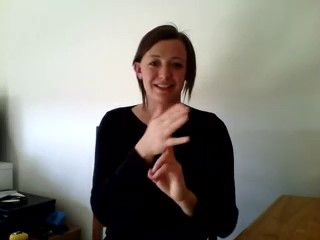N: (135, 98, 195, 201)
